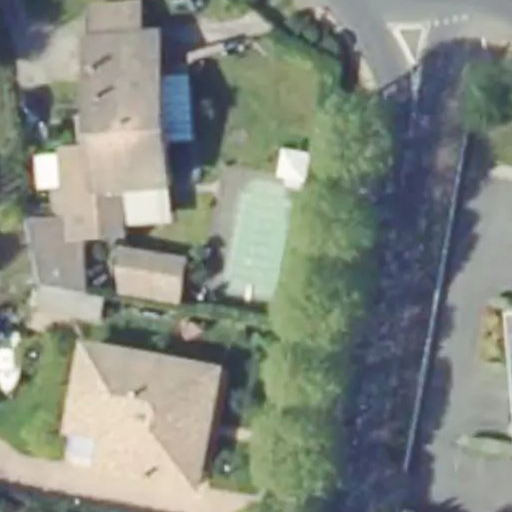pool: (221, 175, 293, 303)
